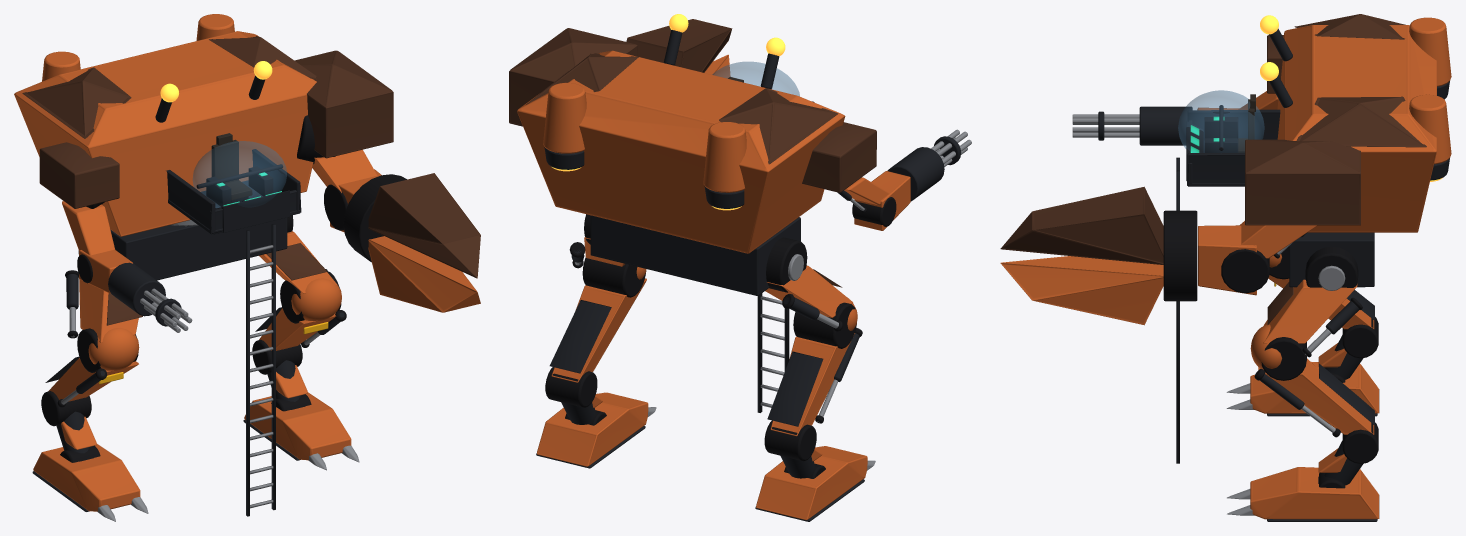
Rendered from mech_hermit.glb.
3 renders of one model, left to right at view 1: azimuth 30°, elevation 25°; view 2: azimuth 150°, elevation 25°; view 3: azimuth 270°, elevation 25°, orthographic. The views are drawn at different scales.
Visible parts, largest first — view 1: carapace_hull, shoulder_L_mount_trim, hand_L_claw_trim, pelvis_block_dark, hand_L_claw_hull, carapace_trim, cockpit_face_glass, foot_R_shoe_hull, shoulder_R_mount_trim, foot_L_shoe_hull, cockpit_face_dark, cockpit_interior_dark (+25 smaller); view 2: carapace_hull, pelvis_block_dark, carapace_trim, jet_pods_hull, foot_L_shoe_hull, foot_R_shoe_hull, shoulder_L_mount_trim, shoulder_R_mount_trim, hand_L_claw_trim, shin_R_armour_dark, shin_R_armour_hull, shin_L_armour_dark (+19 smaller); view 3: carapace_hull, shoulder_L_mount_trim, hand_L_claw_trim, hand_L_claw_hull, carapace_trim, foot_L_shoe_hull, cockpit_face_glass, cockpit_face_dark, shin_L_armour_hull, jet_pods_hull, hand_L_claw_joint, thigh_L_armour_hull (+20 smaller).
Boxes of the visible parts, x1,y1,x2,y2 form: carapace_hull: (14, 31, 316, 236); shoulder_L_mount_trim: (294, 50, 393, 158); hand_L_claw_trim: (368, 173, 480, 278); pelvis_block_dark: (110, 217, 287, 280); hand_L_claw_hull: (368, 236, 480, 312); carapace_trim: (22, 36, 316, 138); cockpit_face_glass: (192, 141, 286, 208); foot_R_shoe_hull: (33, 444, 140, 511); shoulder_R_mount_trim: (39, 142, 119, 208); foot_L_shoe_hull: (244, 392, 351, 460); cockpit_face_dark: (166, 149, 301, 234); cockpit_interior_dark: (206, 166, 289, 232); carapace_hull: (517, 50, 845, 253); pelvis_block_dark: (590, 215, 800, 295); carapace_trim: (526, 53, 838, 164); jet_pods_hull: (543, 82, 746, 192); foot_L_shoe_hull: (537, 392, 648, 466); foot_R_shoe_hull: (756, 446, 867, 520); shoulder_L_mount_trim: (509, 28, 637, 126); shoulder_R_mount_trim: (802, 122, 876, 192); hand_L_claw_trim: (626, 19, 732, 72); shin_R_armour_dark: (767, 333, 859, 426); shin_R_armour_hull: (770, 297, 857, 436); shin_L_armour_dark: (549, 300, 611, 373); carapace_hull: (1277, 25, 1436, 232); shoulder_L_mount_trim: (1245, 139, 1360, 225); hand_L_claw_trim: (1000, 186, 1163, 264); hand_L_claw_hull: (1000, 256, 1163, 325); carapace_trim: (1294, 14, 1426, 147); foot_L_shoe_hull: (1250, 467, 1379, 519); cockpit_face_glass: (1178, 90, 1264, 152); cockpit_face_dark: (1187, 105, 1280, 186); shin_L_armour_hull: (1250, 324, 1374, 434); jet_pods_hull: (1409, 17, 1451, 164); hand_L_claw_joint: (1163, 210, 1197, 301); thigh_L_armour_hull: (1263, 279, 1357, 343).
Size of the model in its own units: 7.75 by 9.58 by 9.39.
